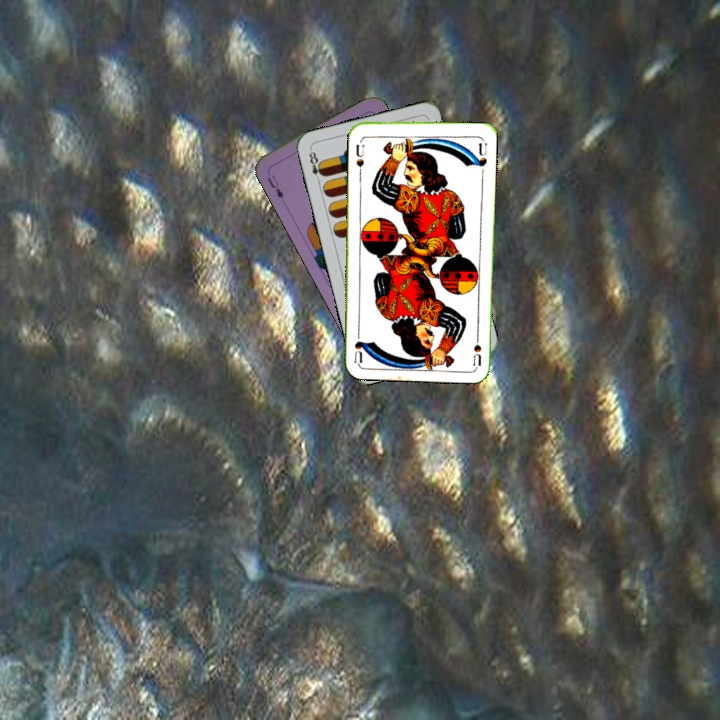E8: (305, 145, 327, 186)
EU: (263, 171, 286, 202)
SU: (469, 326, 484, 367), (352, 135, 366, 175)
